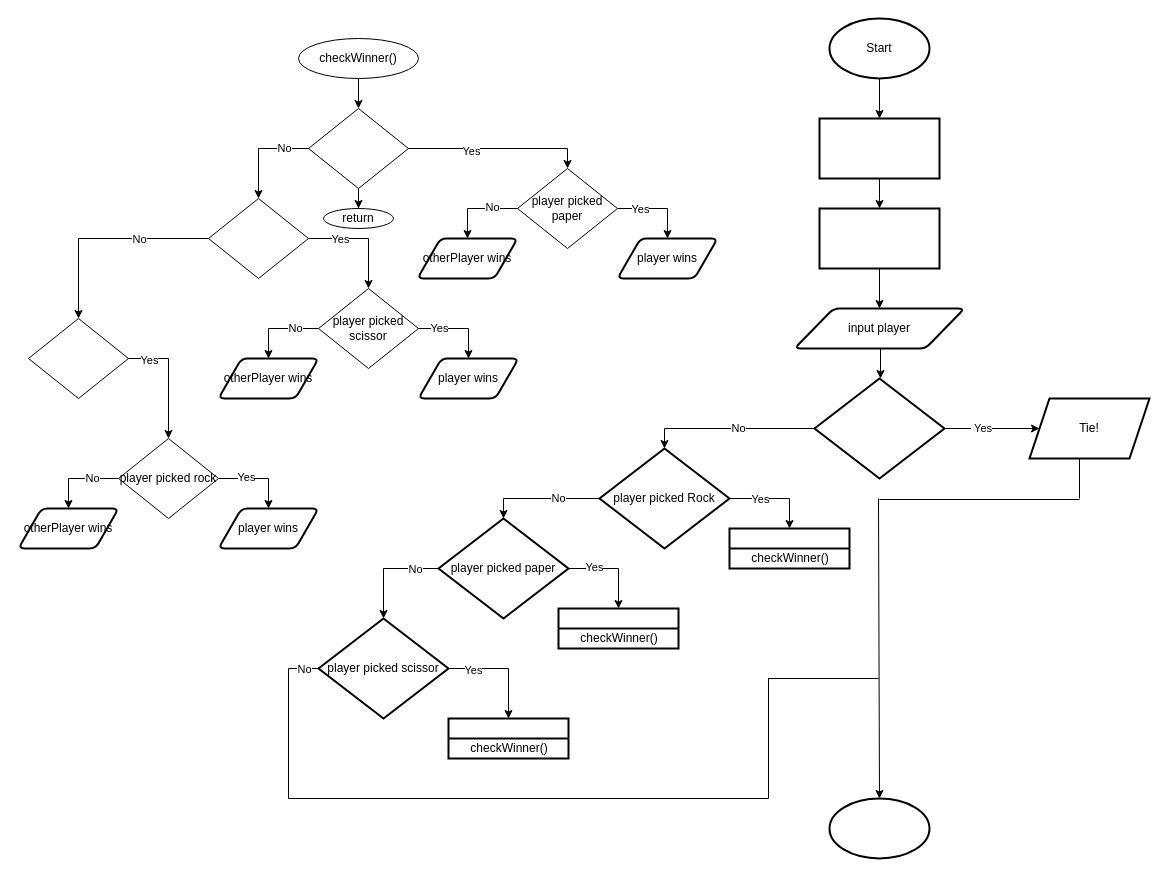
This 1167x876 diagram has some shape labels left out. The shapes that lost their labels are listed below. From the top down, each one's centre as x and y in pixels, then its label:
[358,148]: otherPlayer picked rock
[879,148]: String player
[258,238]: otherPlayer picked paper
[879,238]: String otherPlayer = "Paper"
[78,358]: otherPlayer picked scissor
[879,428]: player equals otherPlayer
[879,828]: Stop
